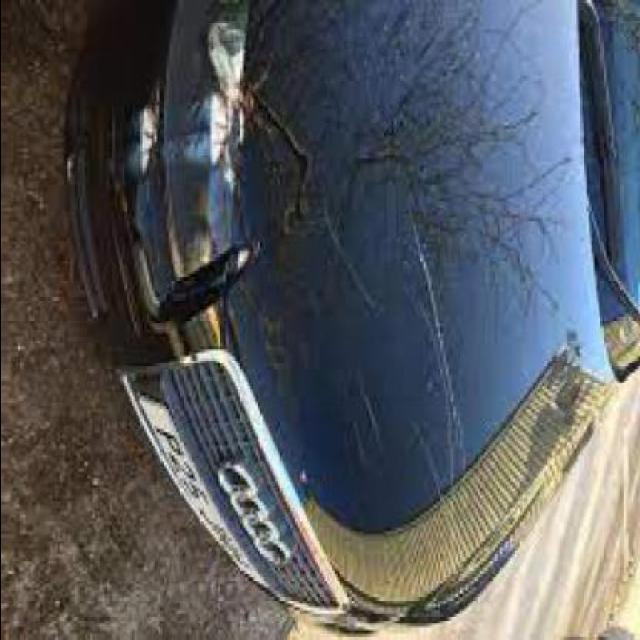bonnet-dent: (188, 0, 537, 607)
front-bumper-dent: (62, 3, 233, 459)
